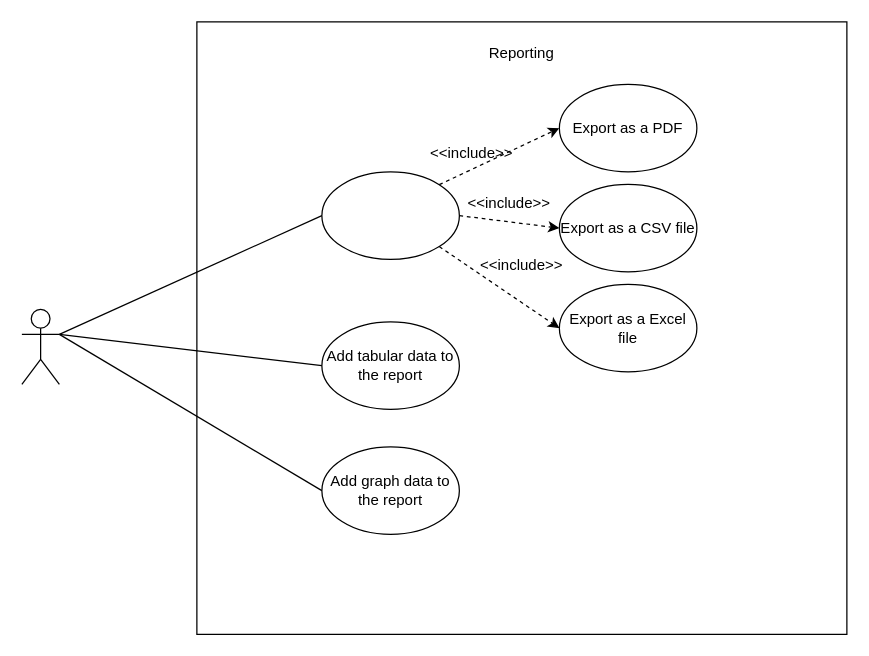
Image size: 869x656. Some labels were removed from this diagram. Each missing label, with the centre of its shape:
"Export the report" belongs at point (390, 215).
"User" belongs at point (40, 346).
